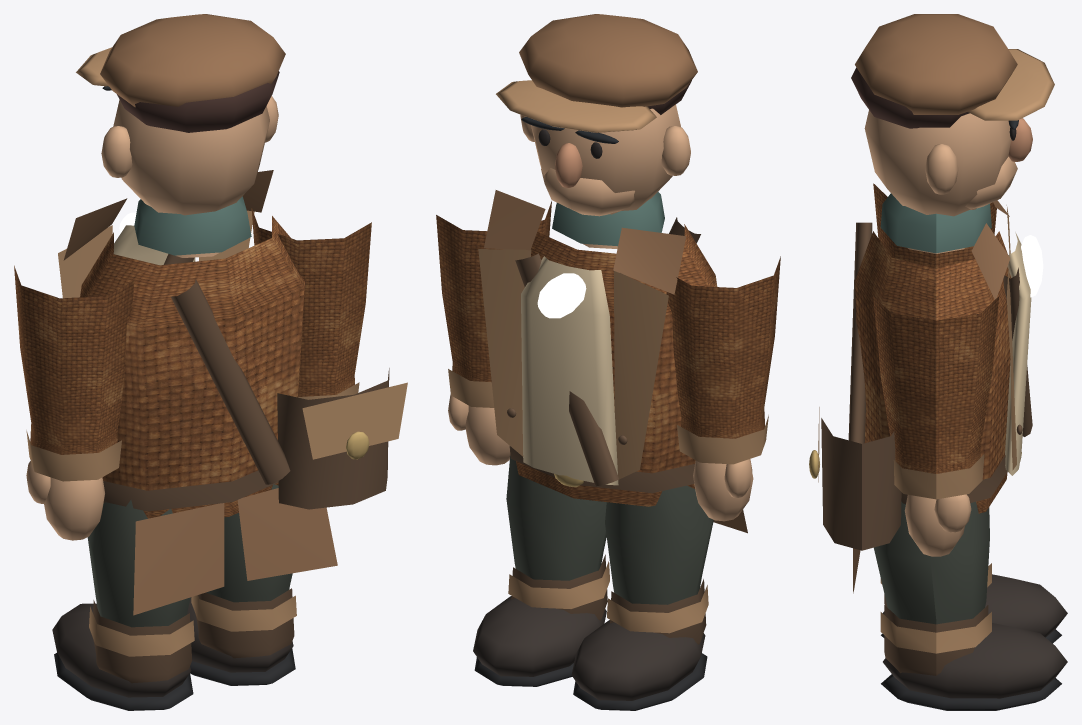
Rendered from ari_lowpoly.glb.
The picture shows the model from 3 angles, left to right: view 1: azimuth 30°, elevation 25°; view 2: azimuth 150°, elevation 25°; view 3: azimuth 270°, elevation 25°; orthographic projection. The views are drawn at different scales.
Visible parts, largest first — view 1: Coat, Sleeve, CapCrown, Head, Sleeve2, SplitCoatTail, Bag, _MeshInstance3D_16, BackStrap, Trouser, BagFlap, Scarf (+20 smaller); view 2: Shirt, Sleeve, CapCrown, Trouser, Coat, Trouser2, CoatLapel, BootToe, BootToe2, _MeshInstance3D_13, Sleeve2, Head (+22 smaller); view 3: Sleeve2, Coat, CapCrown, Head, Trouser2, Bag, BootToe2, Scarf, BootToe, Shirt, CapBrim, BootShaft2 (+16 smaller).
Part boxes in pixels (x1,y1,x2,y2): Coat: (80,216,304,518); Sleeve: (14,265,134,454); CapCrown: (100,14,285,107); Head: (113,100,269,215); Sleeve2: (251,208,371,396); SplitCoatTail: (133,503,224,615); Bag: (277,368,389,509); _MeshInstance3D_16: (237,488,337,580); BackStrap: (171,279,290,484); Trouser: (87,499,190,627); BagFlap: (302,382,407,459); Scarf: (134,196,251,255); Shirt: (521,256,618,485); Sleeve: (666,256,780,438); CapCrown: (519,14,697,107); Trouser: (605,485,713,604); Coat: (516,224,717,506); Trouser2: (506,456,606,580); CoatLapel: (614,271,668,479); BootToe: (571,620,705,700); BootToe2: (473,596,606,676); _MeshInstance3D_13: (478,249,531,456); Sleeve2: (436,201,551,381); Head: (531,104,680,214); Sleeve2: (873,296,999,473); Coat: (854,231,1011,513); CapCrown: (855,14,1017,114); Head: (864,110,1011,216); Trouser2: (874,501,989,624); Bag: (821,418,901,550); BootToe2: (883,623,1067,698); Scarf: (880,193,991,253); BootToe: (882,574,1067,637); Shirt: (1005,232,1031,475); CapBrim: (967,49,1054,120); BootShaft2: (884,605,988,675).
Bounding box in the file's own units: 1.04 × 1.91 × 0.698.
51 materials, 3 textured.
